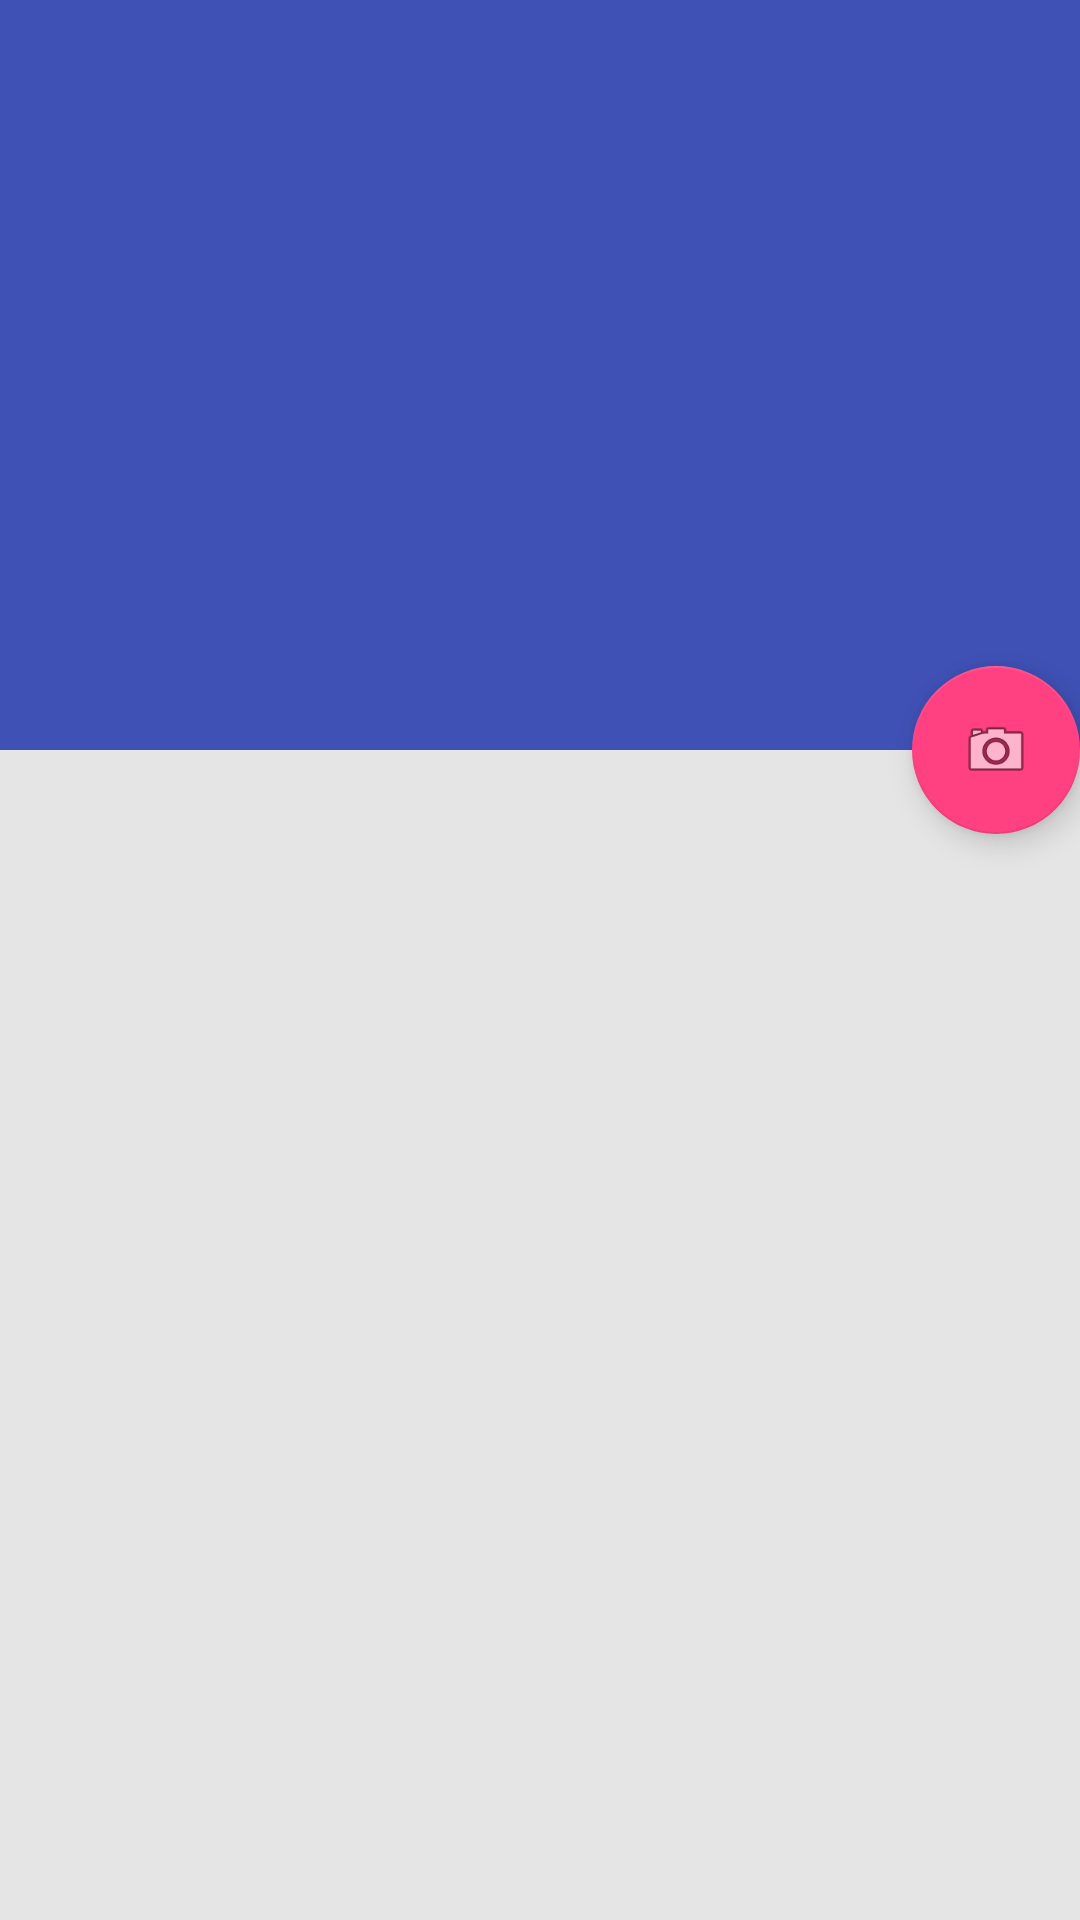

Where to tap for icons on this 1080 × 1920 app screen, as point (x, y):
camera: point (996, 750)
